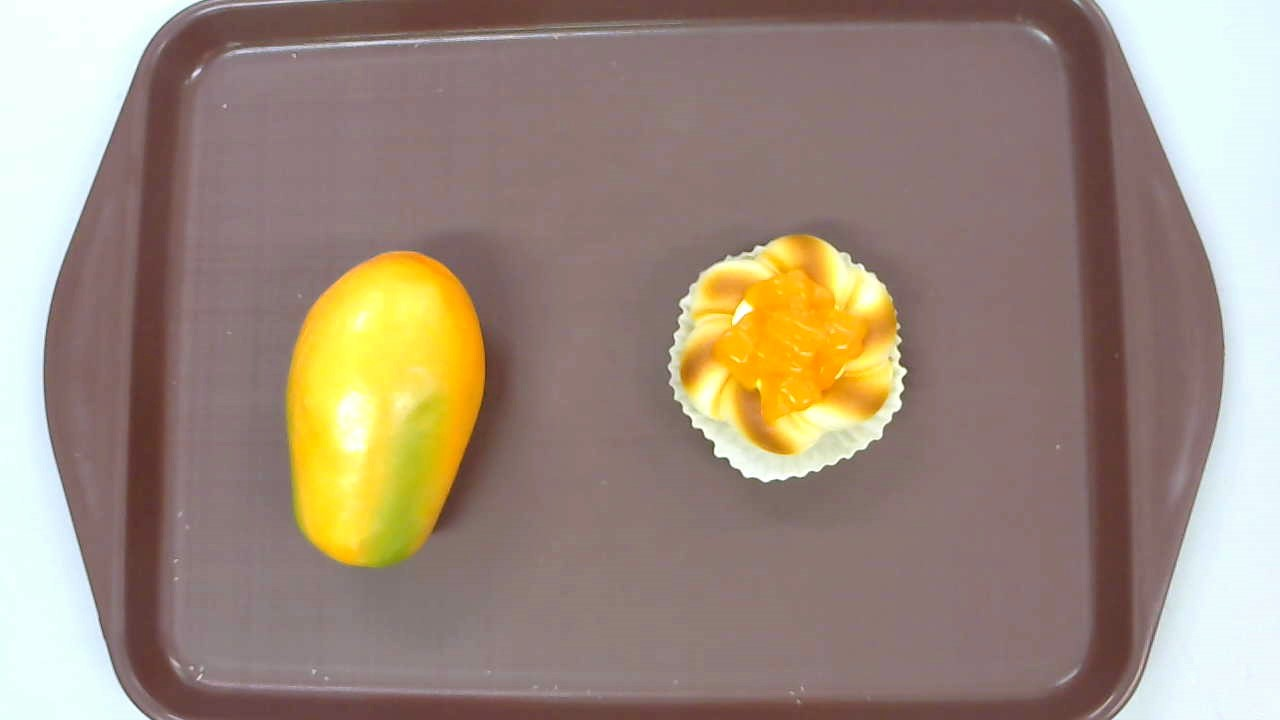mango tart: (666, 234, 908, 482)
papya: (285, 251, 485, 569)
